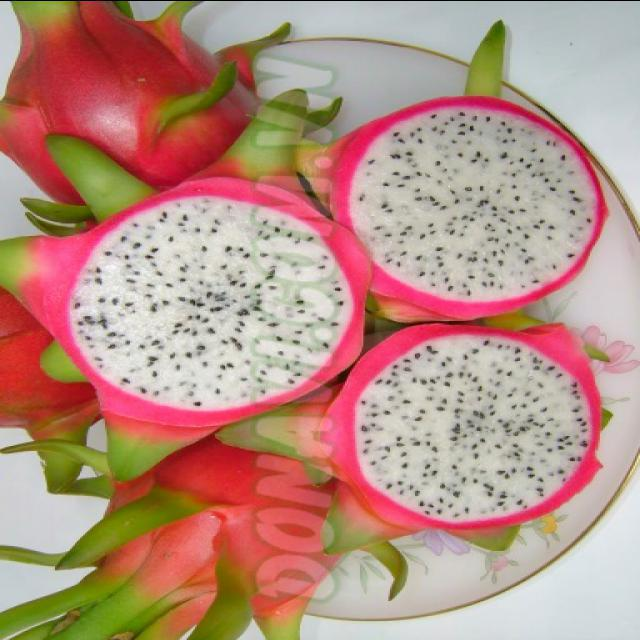trang: (8, 171, 368, 464), (318, 316, 616, 554), (0, 449, 331, 639), (332, 96, 610, 318), (0, 1, 295, 210)
